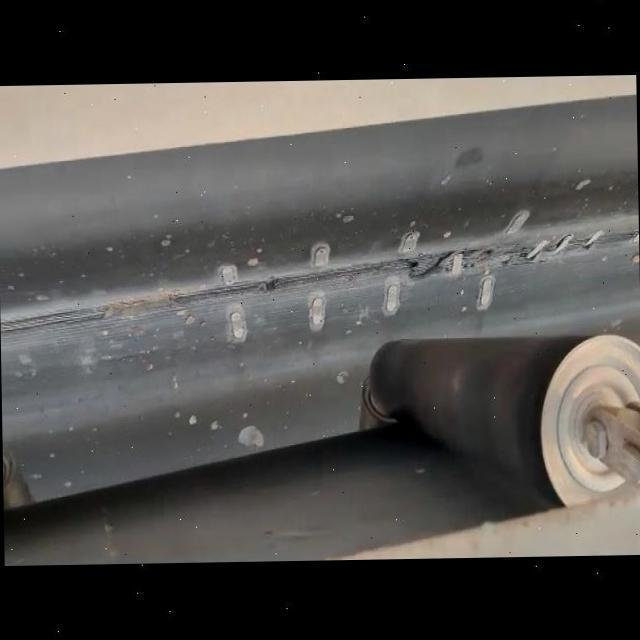Tear: (389, 244, 483, 282)
Wear: (0, 222, 640, 342)
